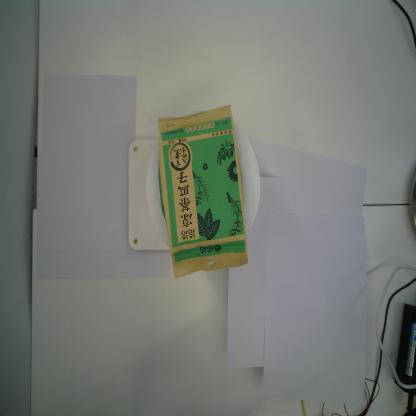Dried Food: (157, 103, 248, 280)
